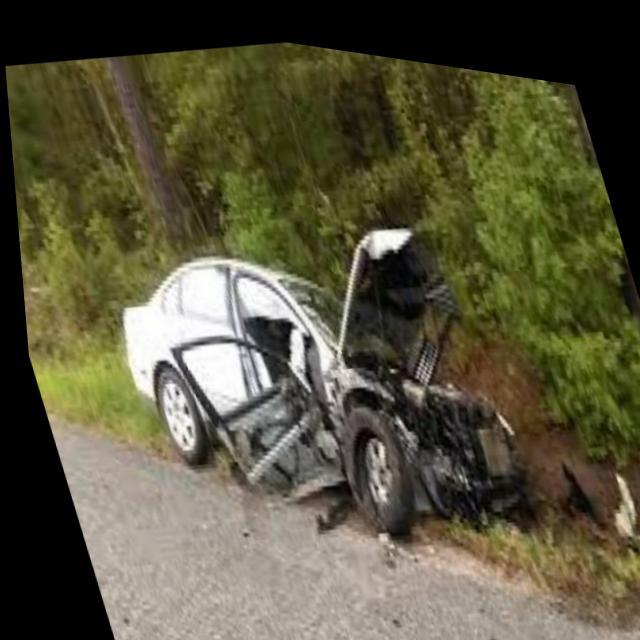crash: (211, 221, 514, 481)
